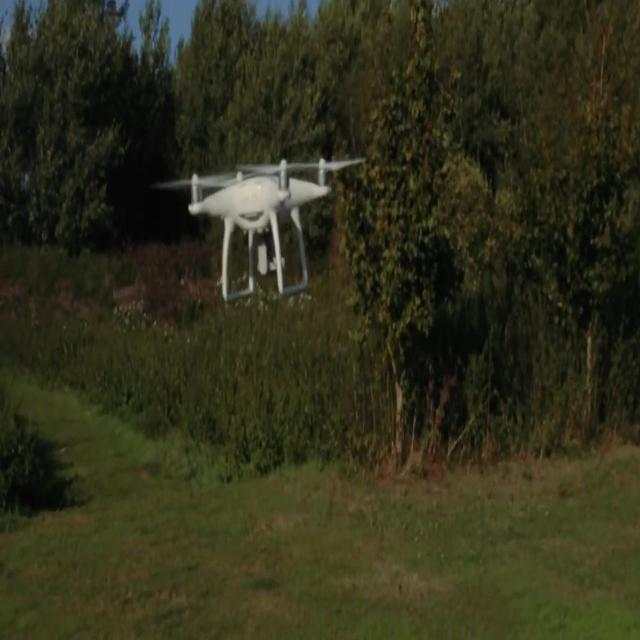drone: (162, 156, 359, 302)
